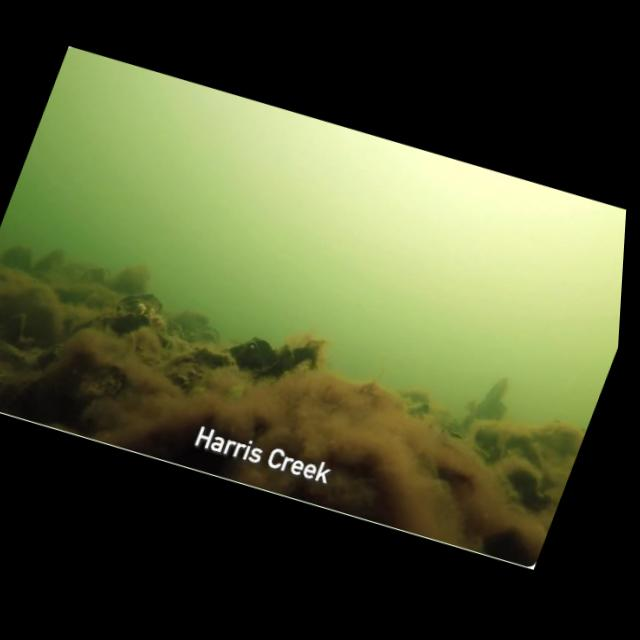Oyster-Indeterminate: (483, 530, 535, 567), (532, 423, 583, 457), (78, 367, 127, 401), (229, 338, 276, 371), (504, 435, 541, 469), (506, 470, 538, 507), (96, 314, 149, 335), (479, 378, 508, 415), (264, 345, 296, 378), (474, 428, 502, 464), (0, 340, 33, 369), (191, 349, 234, 369), (119, 294, 162, 314), (402, 391, 430, 419), (293, 342, 319, 370), (36, 345, 62, 367), (194, 327, 220, 343), (157, 332, 176, 351), (195, 331, 219, 345), (166, 320, 183, 339)
